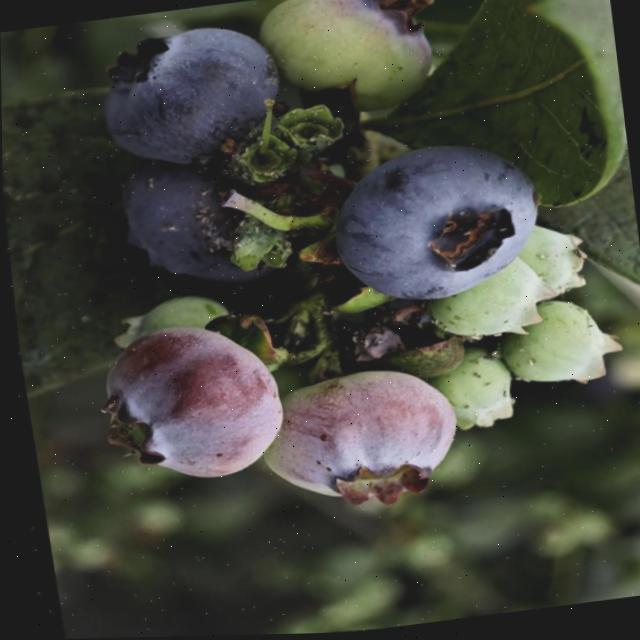RipeBlueBerry: (314, 127, 553, 321), (83, 10, 295, 182), (100, 145, 287, 302)
Semi-RipeBlueBerry: (81, 307, 297, 500), (246, 354, 469, 524)
UnripeBlueBerry: (244, 0, 445, 133), (416, 253, 555, 354), (491, 292, 618, 397)
